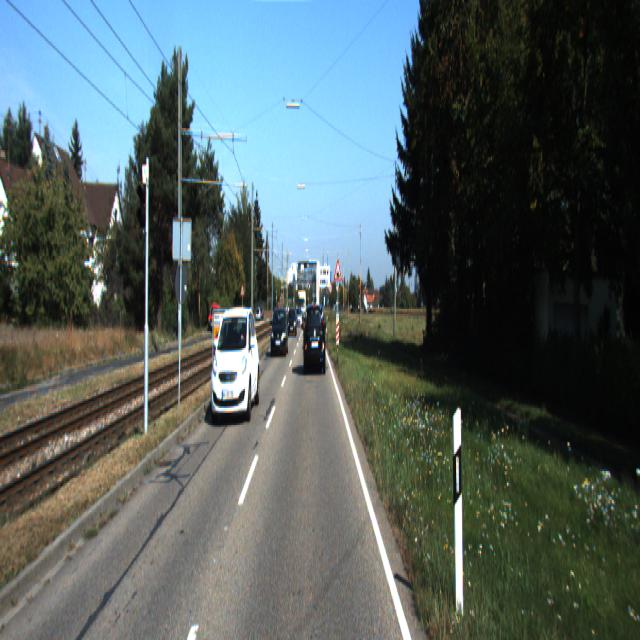Car: (210, 305, 261, 424), (304, 301, 326, 375), (271, 308, 289, 359), (208, 303, 222, 334), (286, 306, 298, 336)
